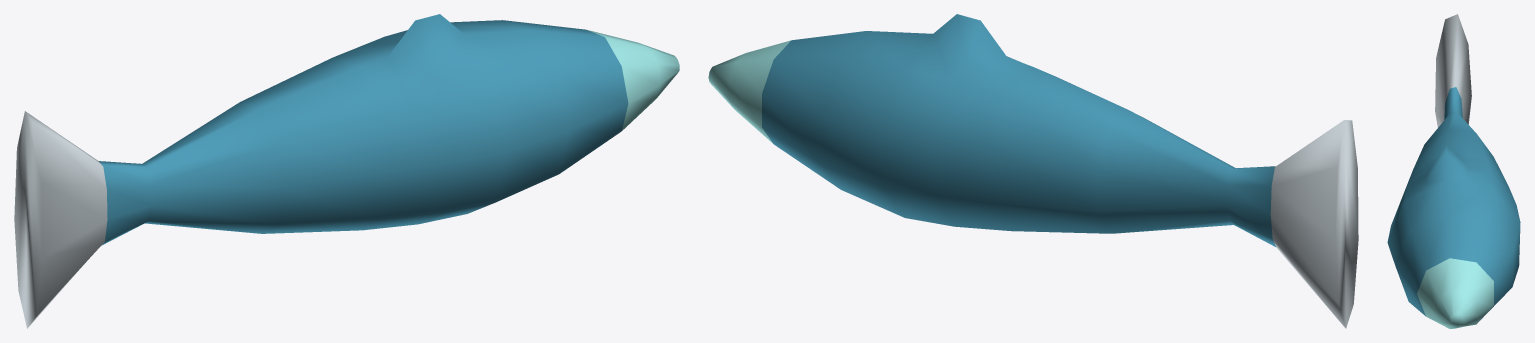
Rendered from Fish.fbx.
3 renders of one model, left to right at view 1: azimuth 30°, elevation 25°; view 2: azimuth 150°, elevation 25°; view 3: azimuth 270°, elevation 25°, orthographic. The views are drawn at different scales.
Visible parts, largest first — view 1: Fish; view 2: Fish; view 3: Fish.
Part boxes in pixels (box(x1,y1,x2,y2)): Fish: box(14, 14, 679, 328); Fish: box(708, 14, 1358, 328); Fish: box(1387, 14, 1520, 328).
Bounding box in the file's own units: 772 × 250 × 192.
